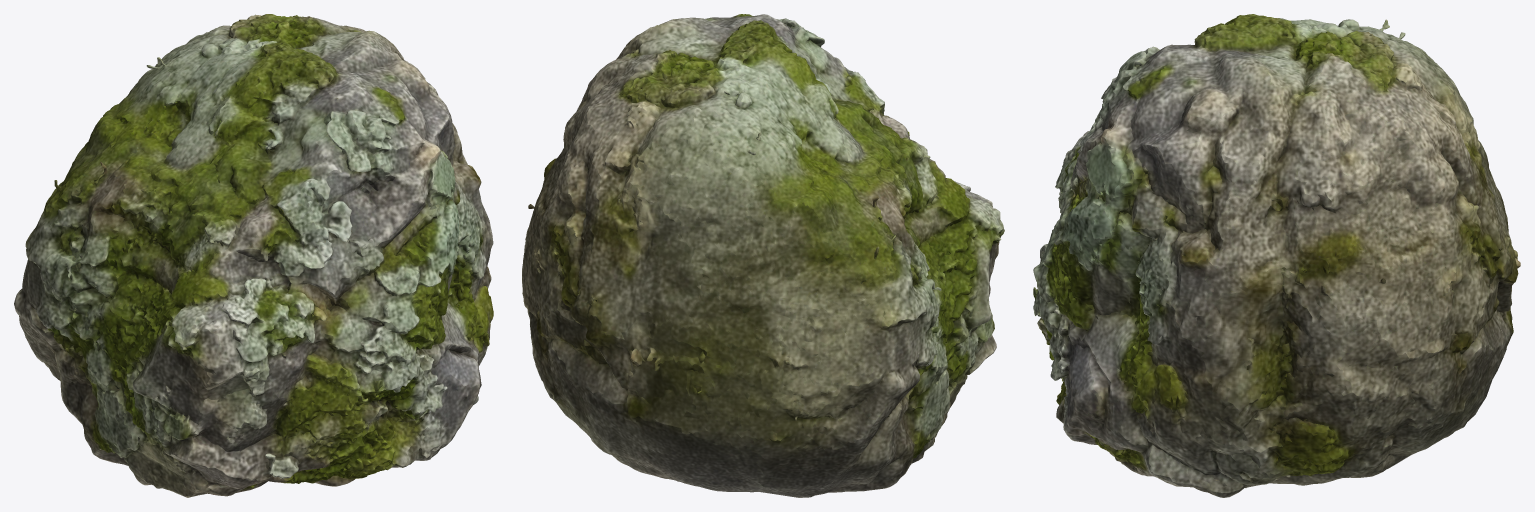
Rendered from r6-lichen-boulder-r6.glb.
The picture shows the model from 3 angles, left to right: view 1: azimuth 30°, elevation 25°; view 2: azimuth 150°, elevation 25°; view 3: azimuth 270°, elevation 25°; orthographic projection. The views are drawn at different scales.
Visible parts, largest first — view 1: geometry_0; view 2: geometry_0; view 3: geometry_0.
Boxes of the visible parts, x1,y1,x2,y2 form: geometry_0: [14, 14, 493, 497]; geometry_0: [522, 14, 1004, 497]; geometry_0: [1033, 14, 1520, 497].
Bounding box in the file's own units: 0.35 × 0.3389 × 0.3497.
Materials: 1 (1 with a texture image).
